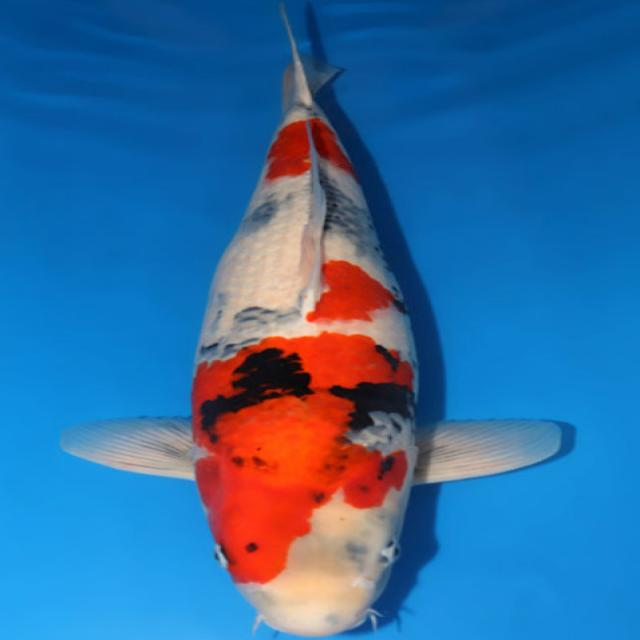Showa: (59, 0, 566, 638)
